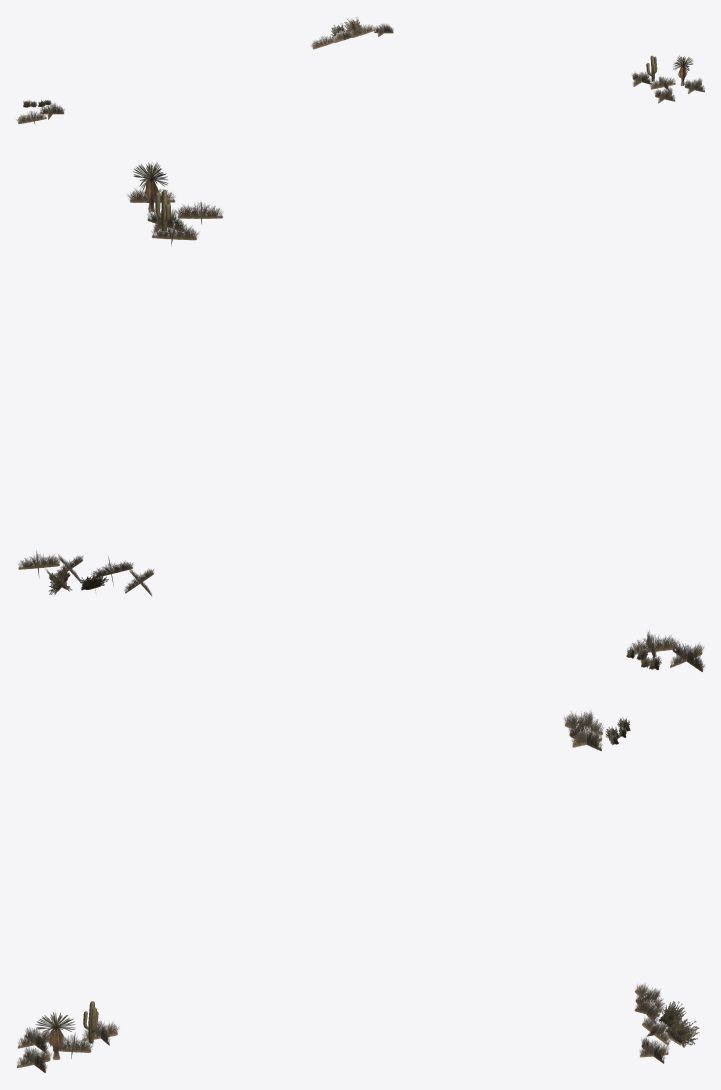
The model's file is 0304worlddeserttransparent_worlddeserttransparentmaterial_0_lev.glb.
3 views of the same model, one above another, from view 1: azimuth 30°, elevation 25°; view 2: azimuth 150°, elevation 25°; view 3: azimuth 270°, elevation 25° (orthographic). The views are drawn at different scales.
Parts seen in each view (by area): view 1: 0304worlddeserttransparent_worlddeserttransparentmaterial_0_; view 2: 0304worlddeserttransparent_worlddeserttransparentmaterial_0_; view 3: 0304worlddeserttransparent_worlddeserttransparentmaterial_0_.
Part boxes in pixels (<box>): 0304worlddeserttransparent_worlddeserttransparentmaterial_0_: <box>16,17,704,124</box>; 0304worlddeserttransparent_worlddeserttransparentmaterial_0_: <box>18,162,705,671</box>; 0304worlddeserttransparent_worlddeserttransparentmaterial_0_: <box>16,709,699,1072</box>.
Bounding box in the file's own units: 18.21 × 3.01 × 12.89.
1 material, 1 textured.
